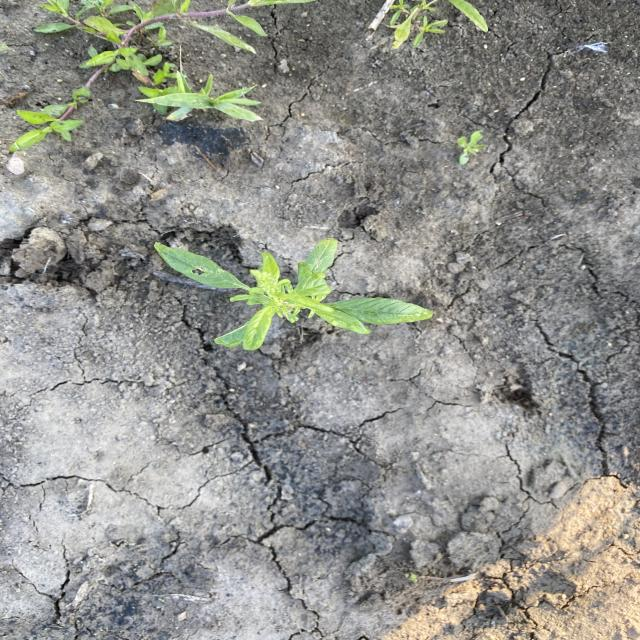Eclipta: (1, 2, 328, 152)
Goosegrass: (132, 77, 266, 129)
Waterhemp: (153, 236, 436, 353)
